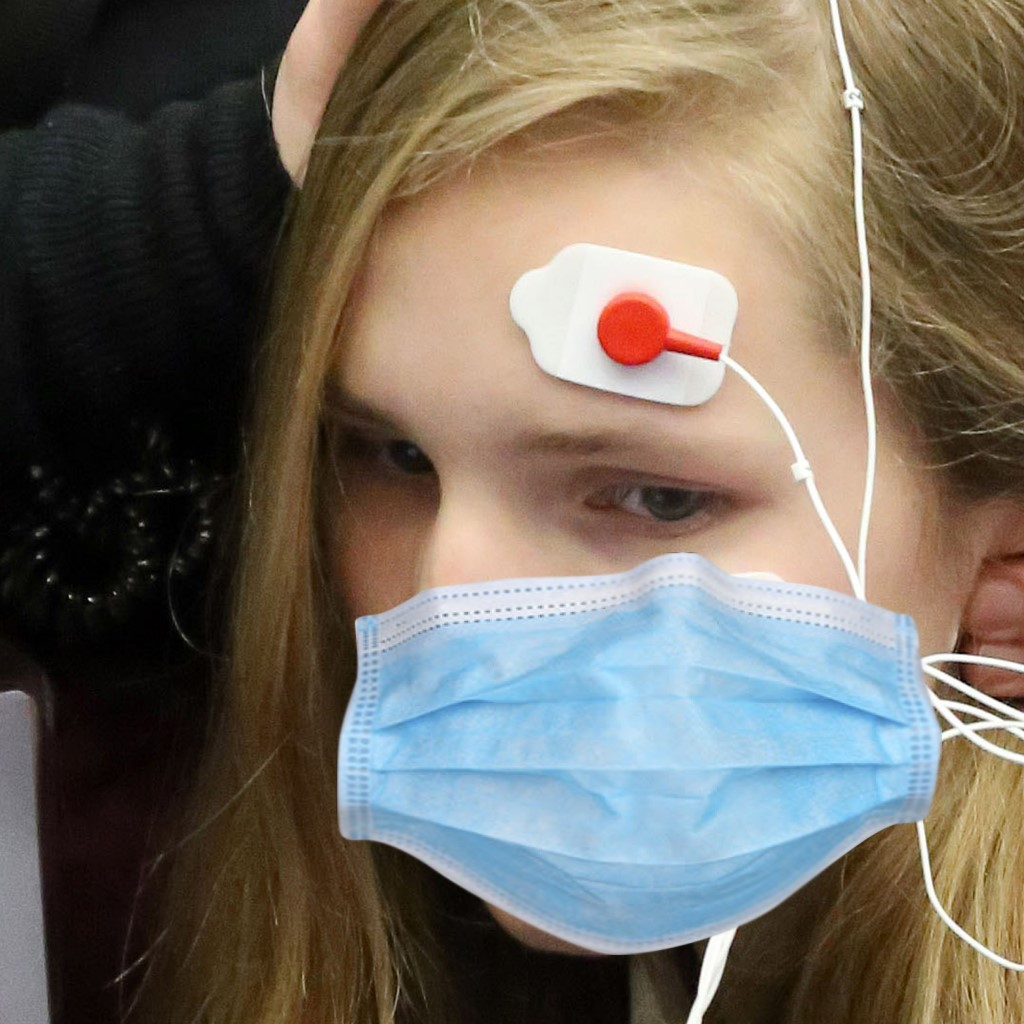con_mascara: (309, 74, 912, 918)
